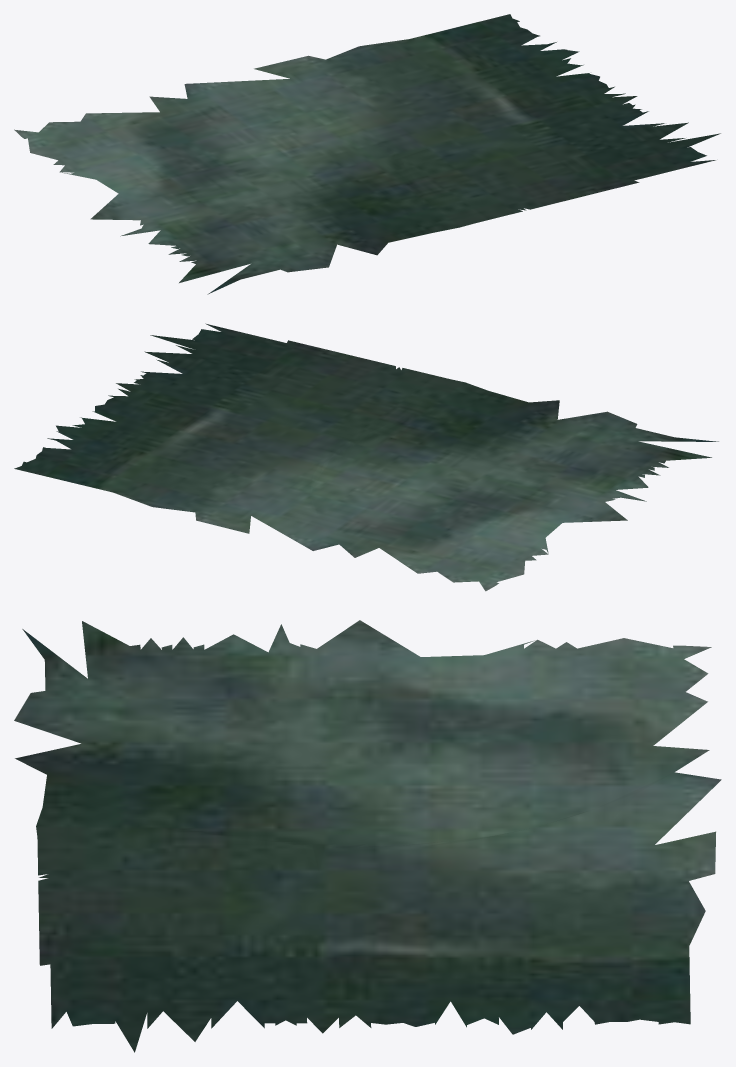
The model's file is Tile_003_001_L14_14441.glb.
The picture shows the model from 3 angles, top to bottom: view 1: azimuth 30°, elevation 25°; view 2: azimuth 150°, elevation 25°; view 3: azimuth 270°, elevation 25°; orthographic projection. The views are drawn at different scales.
Visible parts, largest first — view 1: rtc; view 2: rtc; view 3: rtc.
Boxes of the visible parts, <box> form: rtc: <box>14,14,720,294</box>; rtc: <box>14,323,718,591</box>; rtc: <box>14,620,721,1052</box>.
Bounding box in the file's own units: 48.29 × 0.114 × 33.23.
Materials: 1 (1 with a texture image).
